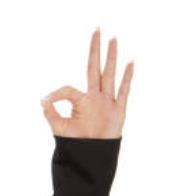left: (40, 26, 137, 143)
